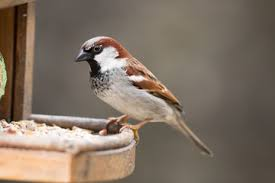hsparrow: (68, 32, 218, 160)
